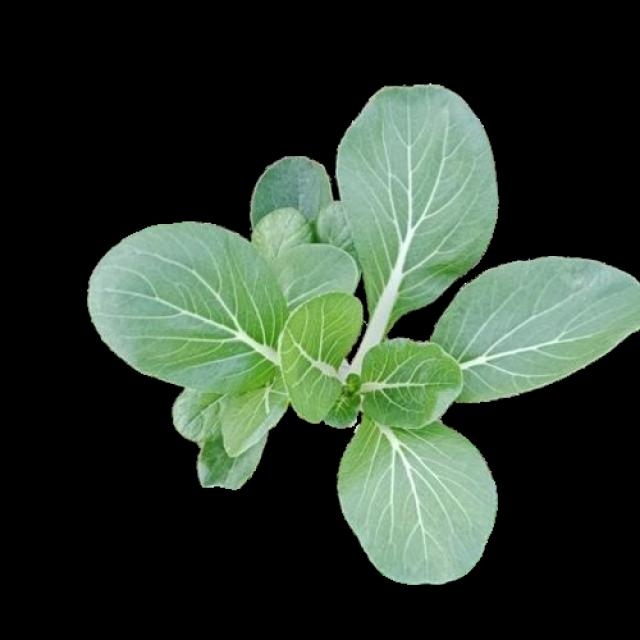healthy: (87, 82, 637, 581)
not-mature: (89, 84, 640, 583)
